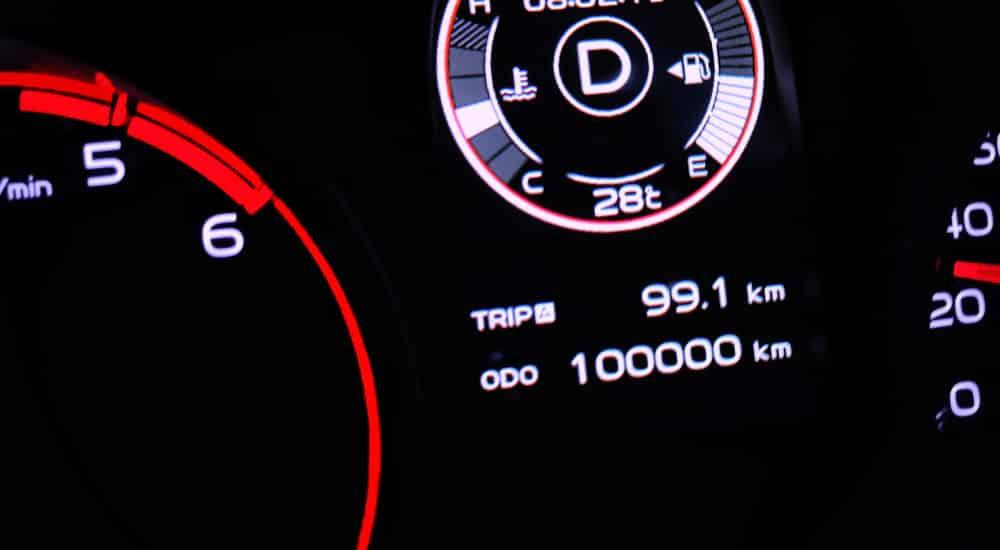-: (701, 302, 708, 311)
0: (596, 347, 625, 383), (655, 341, 683, 376), (713, 334, 742, 367), (627, 346, 654, 378), (685, 338, 712, 369)
1: (563, 349, 590, 388), (712, 276, 728, 310)
9: (641, 285, 671, 318), (672, 281, 700, 314)
X: (771, 339, 793, 361), (753, 339, 771, 365), (488, 309, 508, 330), (535, 303, 555, 324), (480, 369, 499, 391), (746, 282, 763, 306), (765, 283, 785, 303), (469, 309, 487, 331), (519, 365, 538, 385), (500, 368, 518, 389), (515, 306, 531, 327), (506, 306, 513, 329)
odometer: (447, 260, 810, 415)
